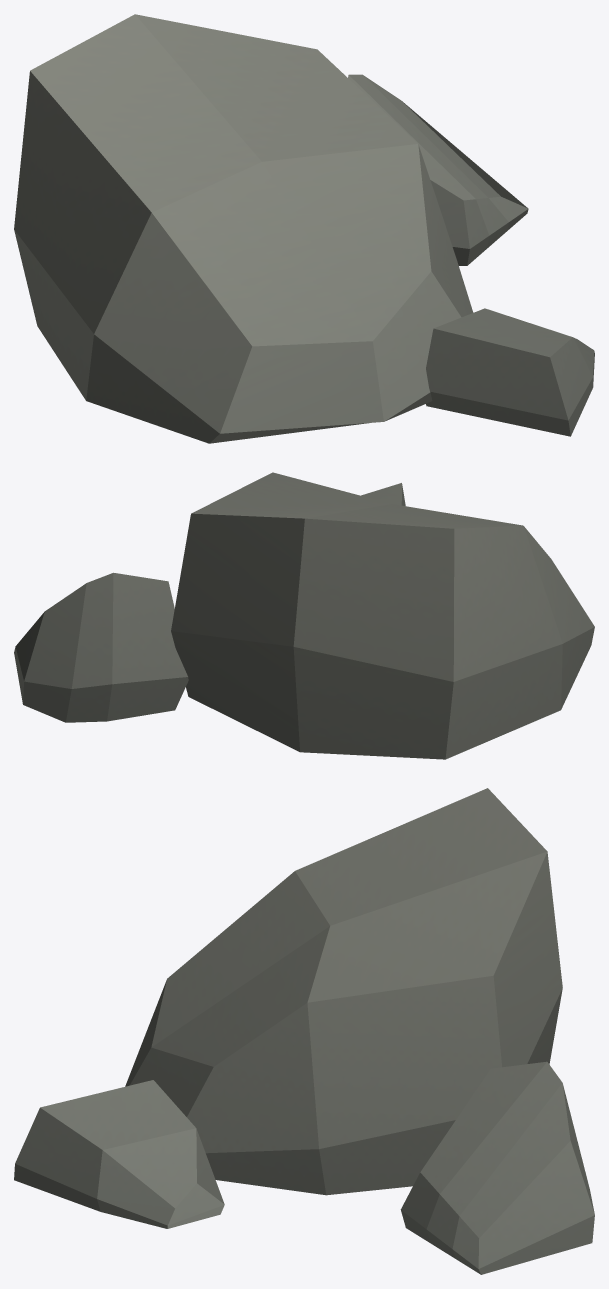
The model's file is MDL_Rock_02.fbx.
The picture shows the model from 3 angles, top to bottom: view 1: azimuth 30°, elevation 25°; view 2: azimuth 150°, elevation 25°; view 3: azimuth 270°, elevation 25°; orthographic projection. The views are drawn at different scales.
Visible parts, largest first — view 1: RockClump_B; view 2: RockClump_B; view 3: RockClump_B.
Part boxes in pixels (bbox=[...]): RockClump_B: bbox=[14, 14, 594, 443]; RockClump_B: bbox=[14, 472, 594, 759]; RockClump_B: bbox=[14, 788, 594, 1274].
Size of the model in its own units: 82.39 by 41.12 by 81.33.
